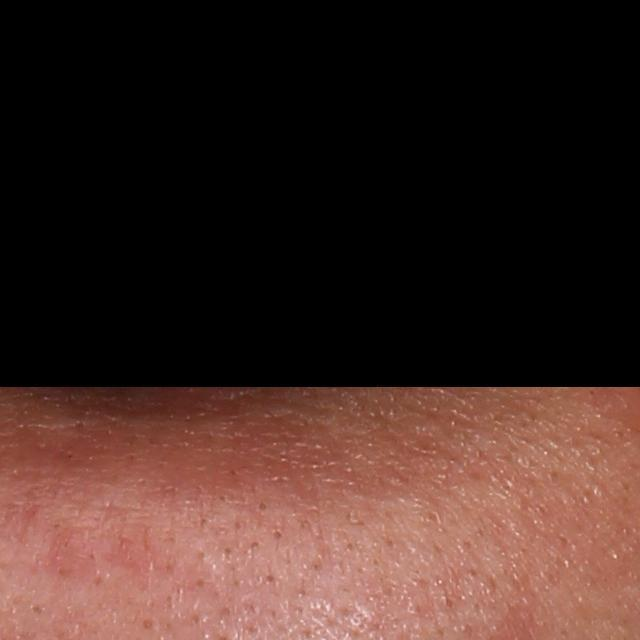comedo: (254, 497, 274, 515), (269, 526, 287, 543)
